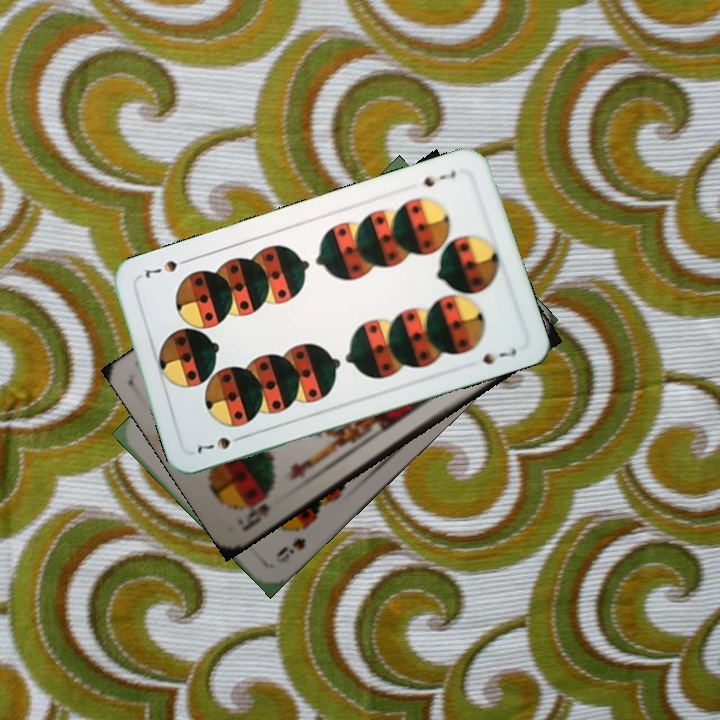S7: (193, 431, 248, 456), (419, 166, 459, 190)
S9: (271, 518, 314, 566)
SK: (237, 491, 273, 534)
